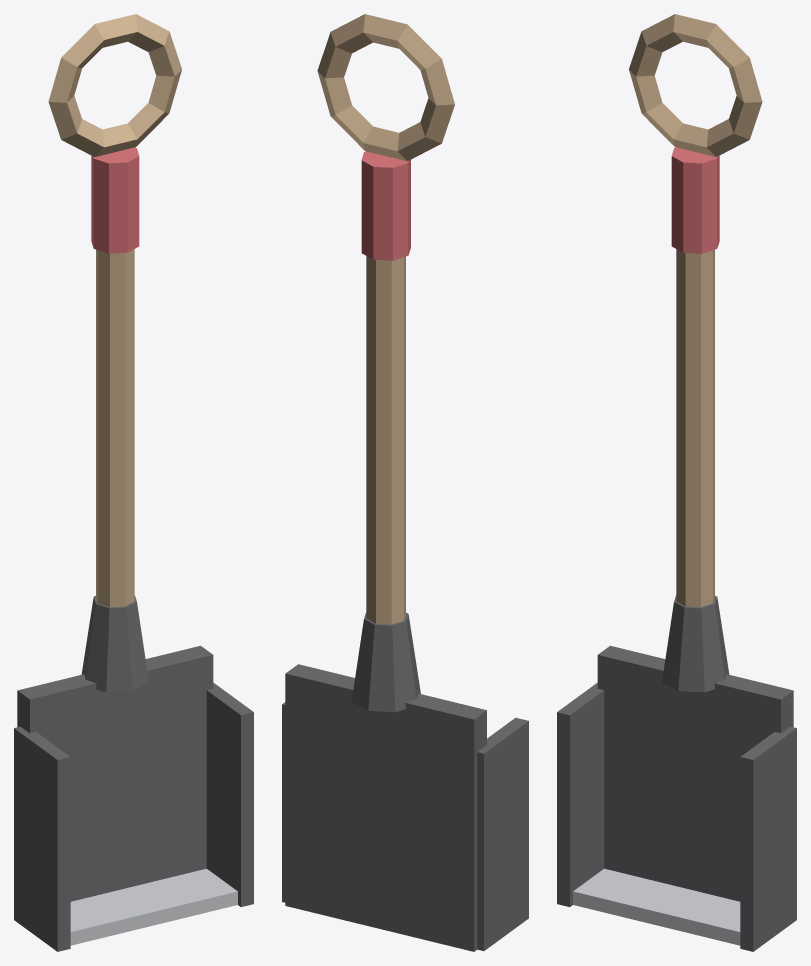
Rendered from shovel.glb.
The picture shows the model from 3 angles, left to right: view 1: azimuth 30°, elevation 25°; view 2: azimuth 150°, elevation 25°; view 3: azimuth 330°, elevation 25°; orthographic projection. The views are drawn at different scales.
Parts seen in each view (by area): view 1: Blade, Shaft, Blade lip, Grip wrap; view 2: Blade, Shaft, Grip wrap; view 3: Blade, Shaft, Blade lip, Grip wrap.
Boxes of the visible parts, left/top/right/bottom form: Blade: left=14, top=595, right=253, bottom=951; Shaft: left=48, top=14, right=181, bottom=607; Blade lip: left=70, top=868, right=237, bottom=945; Grip wrap: left=91, top=147, right=139, bottom=253; Blade: left=282, top=612, right=528, bottom=951; Shaft: left=317, top=14, right=454, bottom=624; Grip wrap: left=361, top=151, right=410, bottom=260; Blade: left=557, top=595, right=796, bottom=951; Shaft: left=629, top=14, right=762, bottom=607; Blade lip: left=573, top=868, right=740, bottom=945; Grip wrap: left=671, top=147, right=719, bottom=253.
Bounding box in the file's own units: 0.182 × 0.779 × 0.093.
